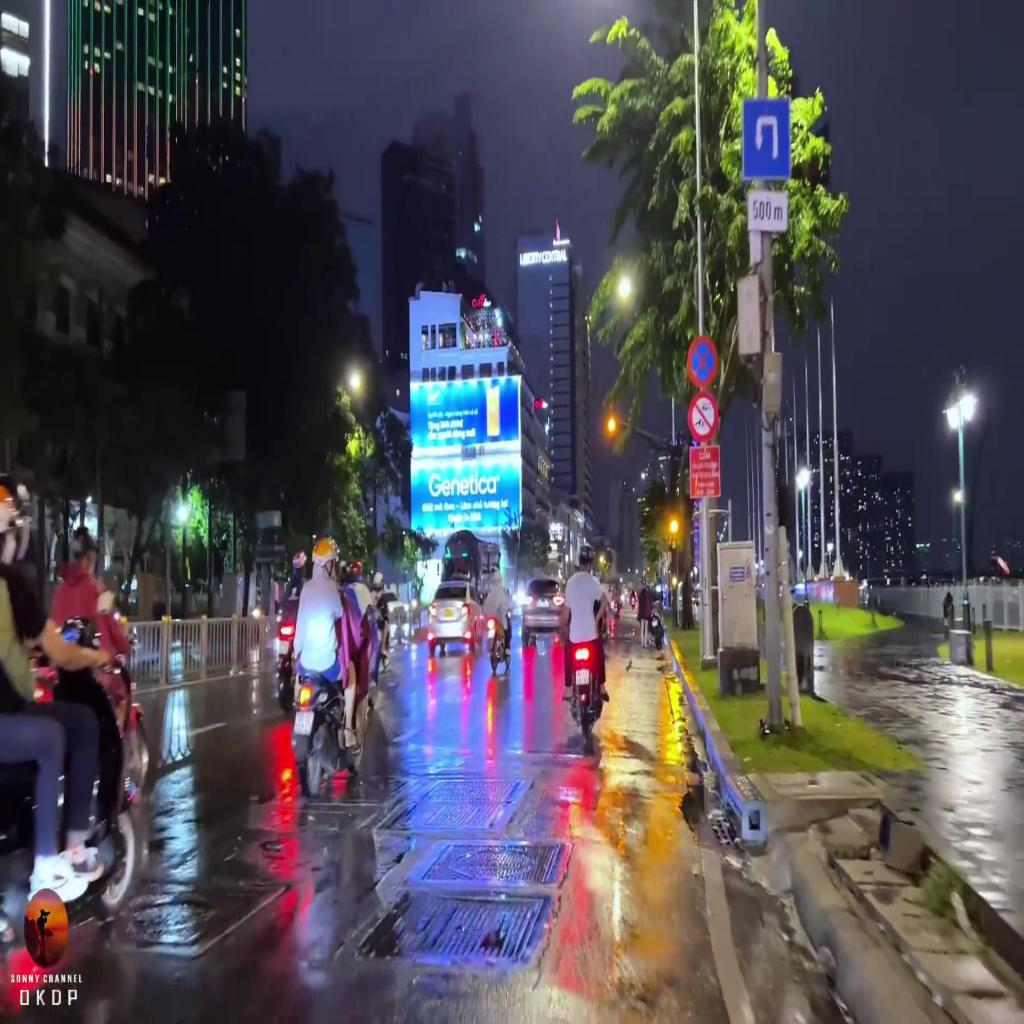cam_cac_loai_xe_3_banh: (688, 393, 718, 442)
cam_dung_xe_va_do_xe: (687, 336, 718, 390)
cho_quay_xe: (744, 101, 790, 182)
khac: (747, 189, 789, 235)
